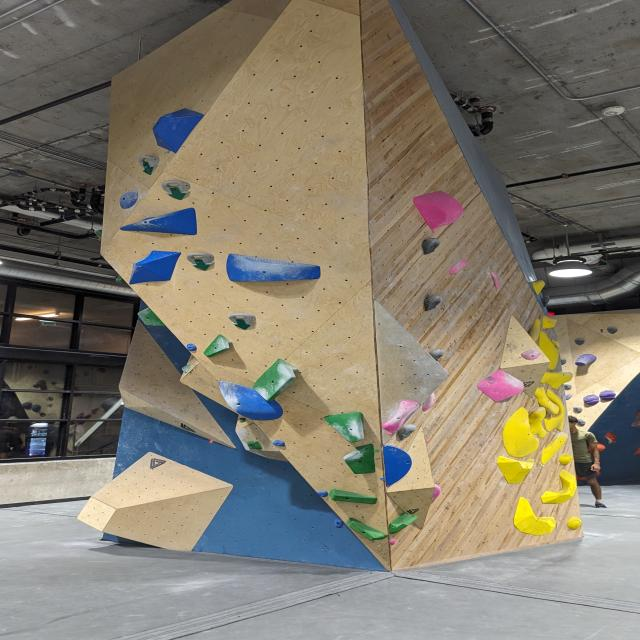hold: (226, 253, 321, 282), (235, 414, 289, 463), (217, 381, 283, 421), (152, 108, 205, 154), (120, 207, 197, 235), (252, 358, 299, 401), (413, 191, 463, 230), (502, 407, 539, 458), (129, 250, 182, 285), (513, 497, 556, 536), (477, 370, 524, 403), (540, 469, 577, 504), (324, 411, 364, 443), (383, 444, 412, 487), (381, 400, 420, 431), (496, 456, 535, 484), (345, 518, 389, 541), (342, 444, 375, 474), (541, 431, 568, 465), (544, 389, 565, 432), (538, 331, 560, 371), (328, 489, 378, 504), (534, 387, 560, 415), (203, 334, 233, 357), (389, 512, 419, 534), (161, 180, 191, 201), (540, 372, 573, 390), (529, 407, 547, 438), (137, 307, 166, 326), (186, 252, 215, 271), (227, 313, 256, 330), (138, 155, 159, 176), (119, 189, 138, 209), (396, 424, 417, 441), (528, 318, 541, 343), (422, 238, 441, 255), (424, 295, 442, 311), (449, 259, 468, 274), (575, 354, 597, 366), (422, 393, 435, 412), (531, 280, 545, 296), (521, 349, 541, 360), (542, 315, 557, 329), (567, 516, 582, 530), (429, 349, 444, 362), (431, 483, 441, 502), (583, 394, 600, 405), (599, 390, 616, 401), (559, 452, 573, 465), (245, 441, 263, 450), (490, 271, 499, 289), (605, 432, 617, 444), (540, 294, 550, 308), (272, 439, 286, 447), (181, 364, 192, 374), (334, 519, 344, 528), (186, 343, 197, 351), (597, 441, 605, 452), (572, 406, 583, 414), (574, 338, 585, 346), (606, 326, 617, 334), (316, 491, 328, 497), (577, 419, 586, 427), (564, 383, 572, 391), (389, 539, 397, 546), (565, 394, 573, 400), (560, 358, 566, 365), (634, 447, 639, 455), (238, 418, 247, 422), (631, 422, 639, 426), (424, 437, 429, 443), (443, 368, 448, 373), (637, 412, 639, 418), (600, 329, 603, 332)
volume: (77, 451, 234, 555), (118, 319, 234, 449), (375, 298, 450, 449), (386, 427, 434, 531), (179, 355, 252, 421), (500, 316, 551, 399)
